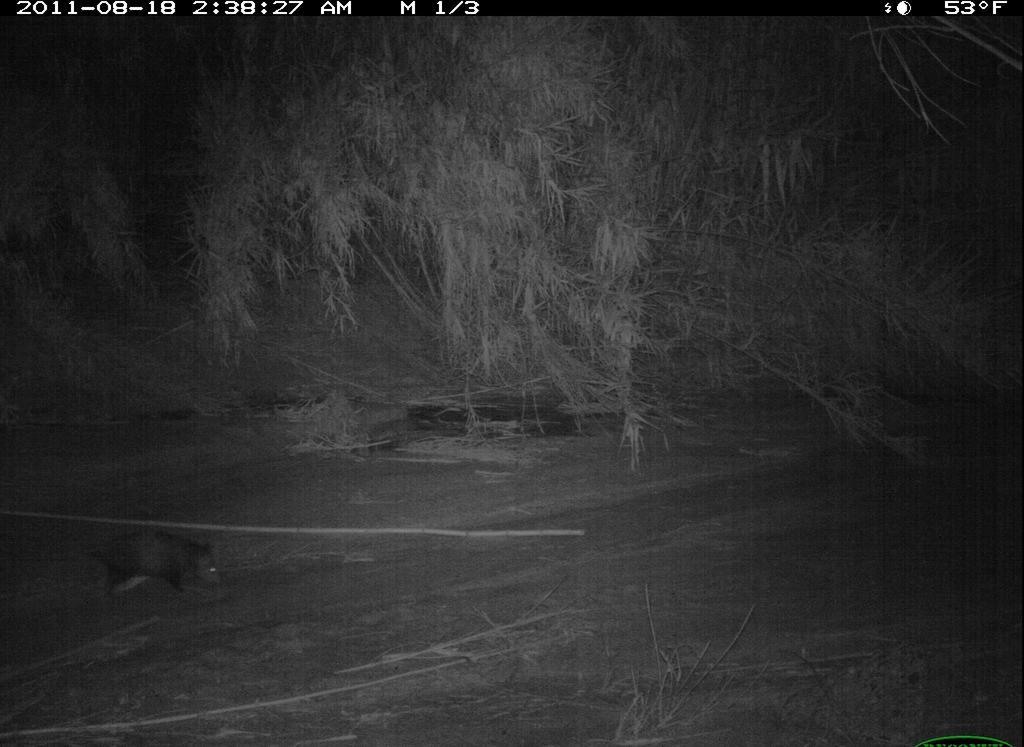opossum: (44, 523, 244, 610)
